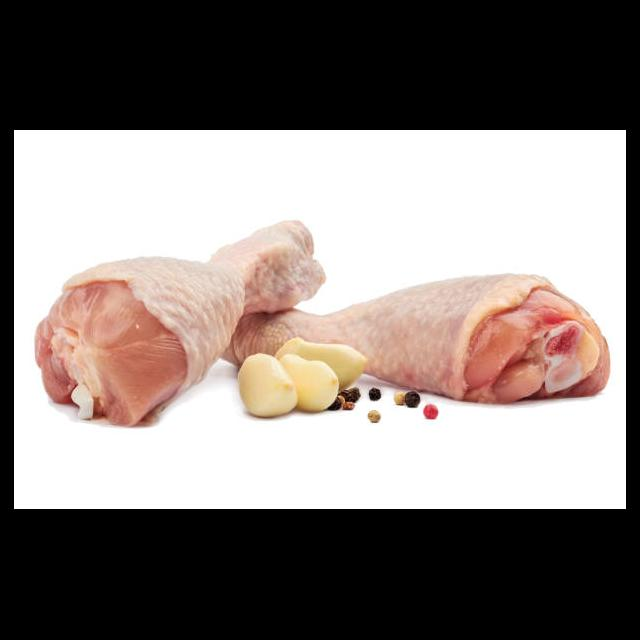chicken: (32, 220, 327, 430), (211, 272, 616, 408)
